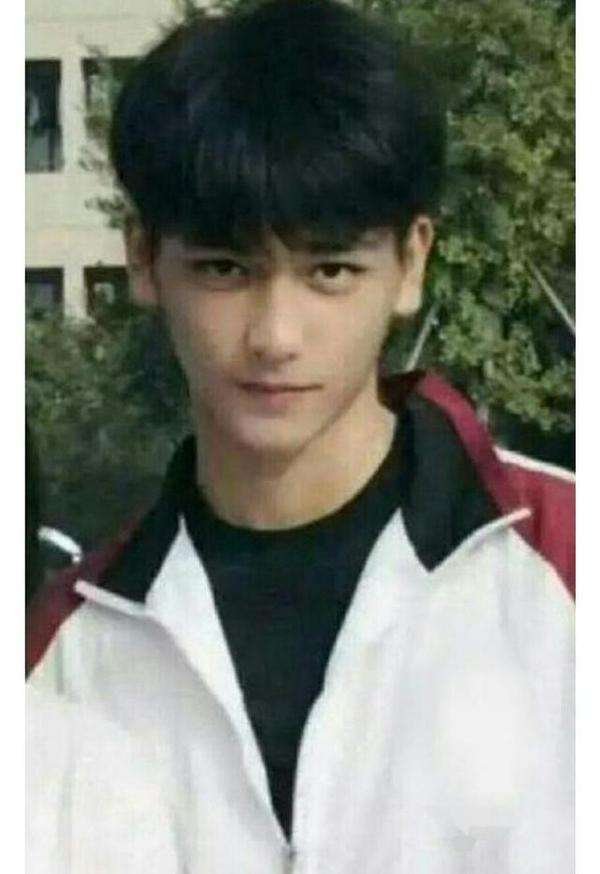person: (82, 22, 498, 874)
